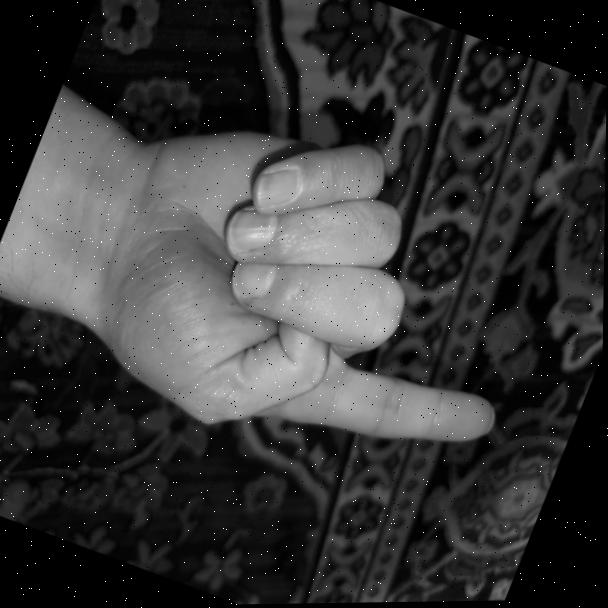one: (17, 55, 582, 512)
